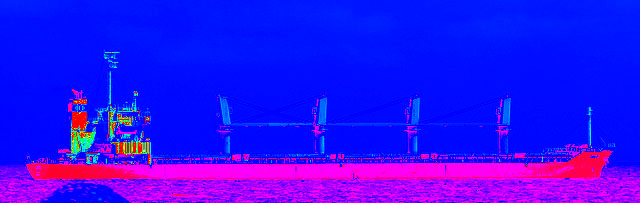bulk carrier: (23, 50, 613, 179)
